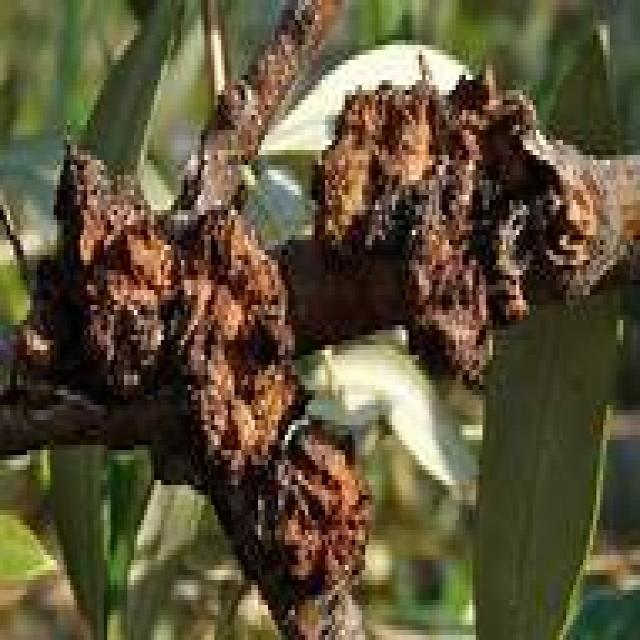Tuberculosis: (36, 145, 368, 635), (318, 50, 596, 380)
